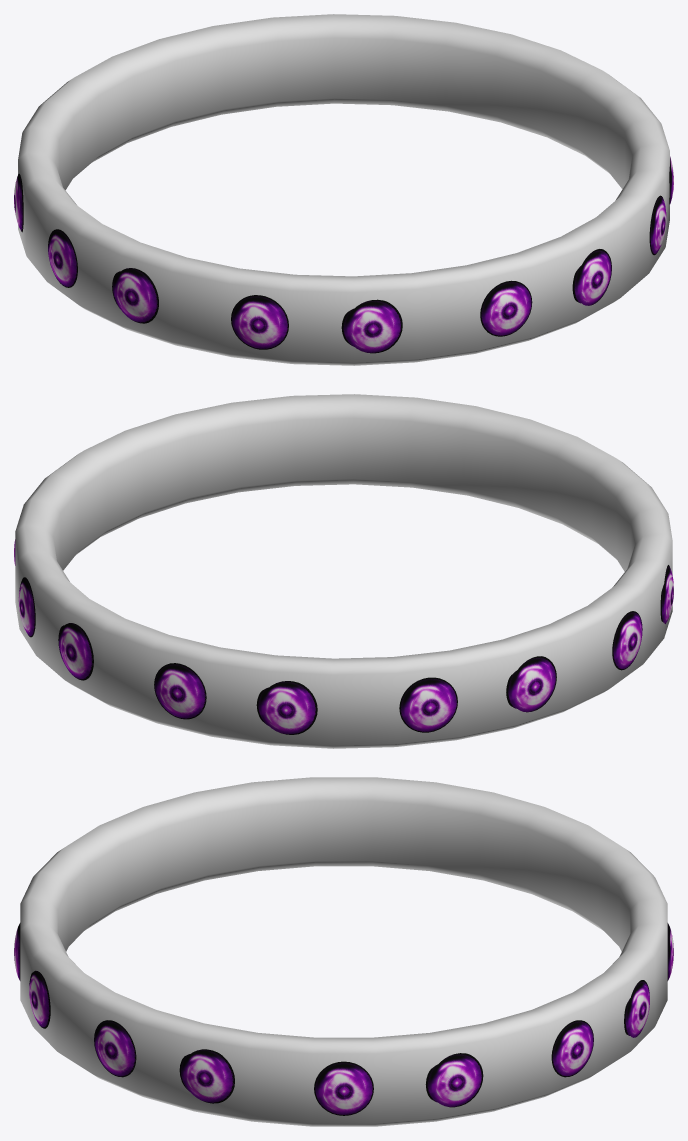
The model's file is WatcherRing.fbx.
3 renders of one model, top to bottom at view 1: azimuth 30°, elevation 25°; view 2: azimuth 150°, elevation 25°; view 3: azimuth 270°, elevation 25°, orthographic.
Visible parts, largest first — view 1: WatcherRing; view 2: WatcherRing; view 3: WatcherRing.
Part boxes in pixels (box(x1,y1,x2,y2)): WatcherRing: box(14, 14, 673, 365); WatcherRing: box(14, 394, 673, 748); WatcherRing: box(14, 777, 673, 1126).
Size of the model in its own units: 100 by 13.95 by 100.
